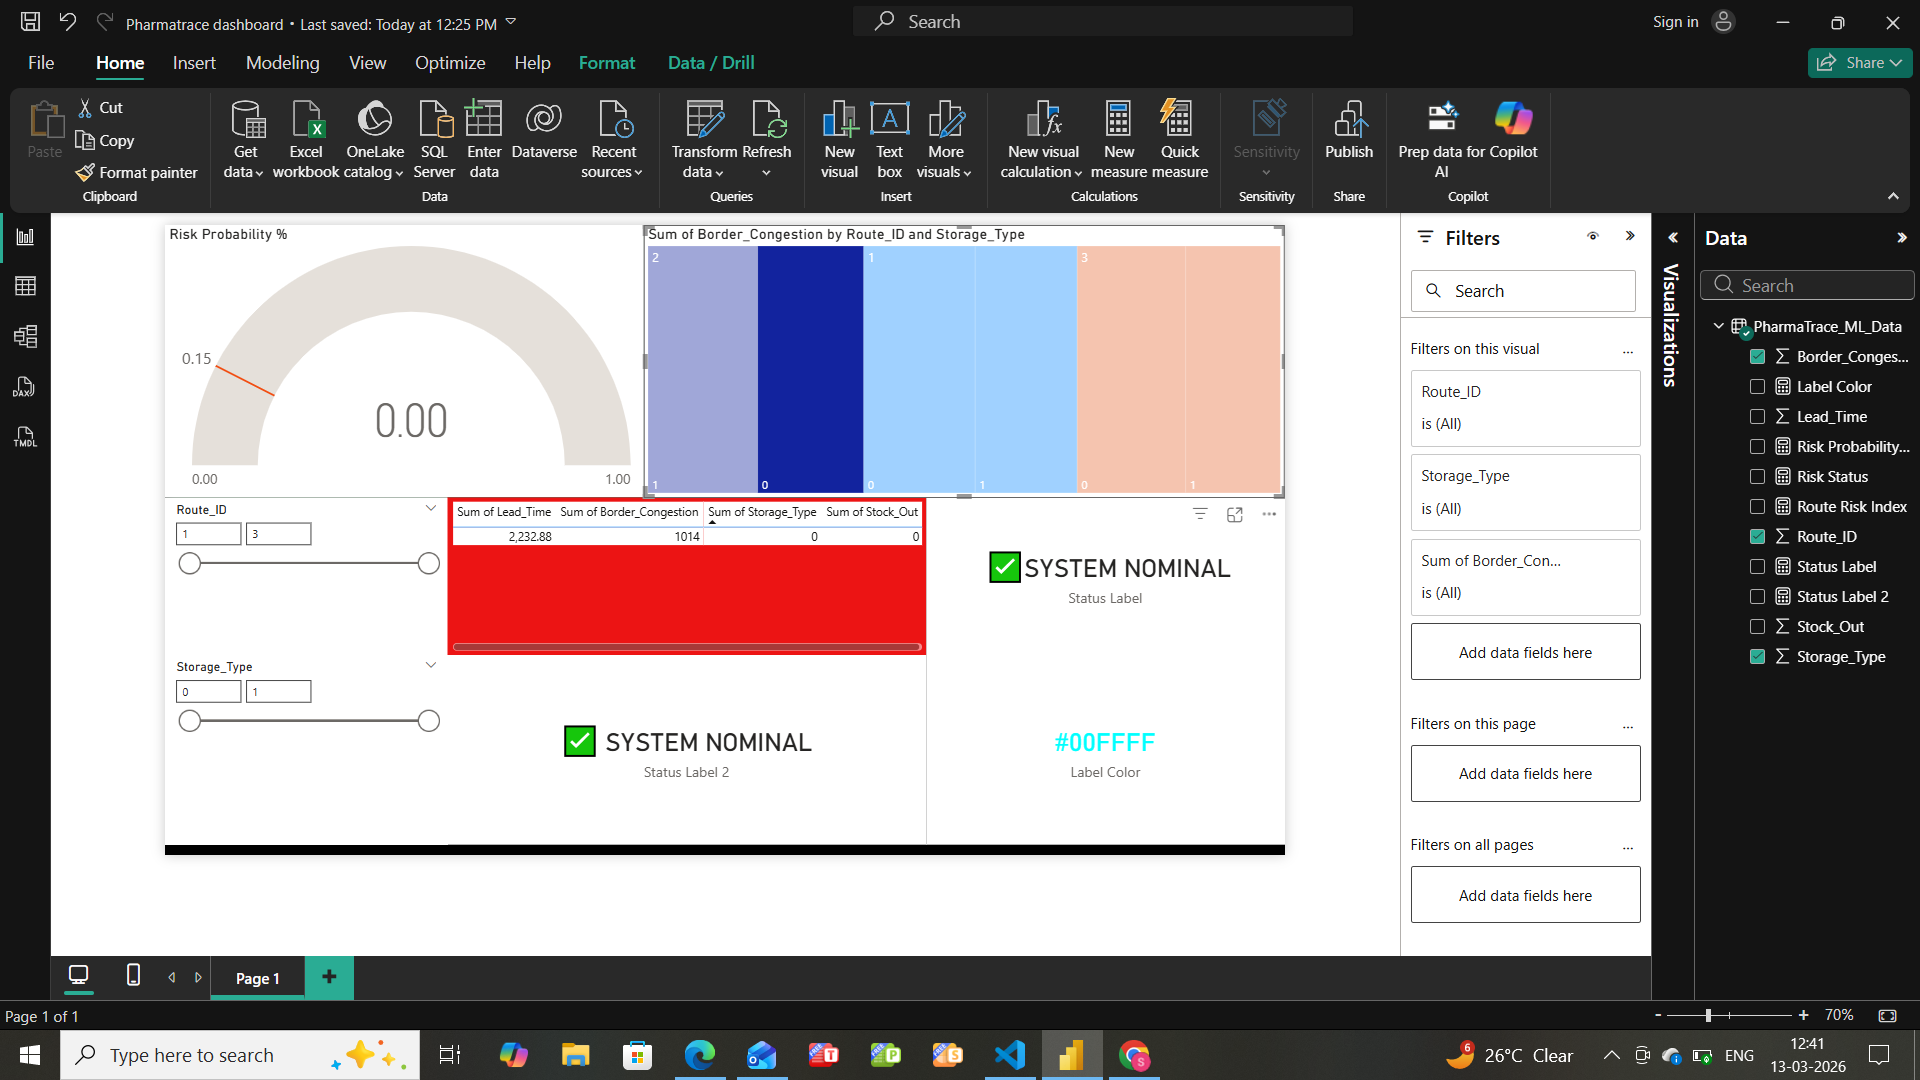

This screenshot's page, from the dashboard's own definition file:
{"tool":"powerbi","page":{"name":"Page 1","canvas":[1280,720],"ordinal":0},"visuals":[{"type":"gauge","fields":{"Y":["PharmaTrace_ML_Data.Risk Probability %"]},"box":[0,0,547.5,311.5],"z":0},{"type":"treemap","fields":{"Group":["PharmaTrace_ML_Data.Route_ID"],"Values":["Sum(PharmaTrace_ML_Data.Border_Congestion)"],"Details":["PharmaTrace_ML_Data.Storage_Type"]},"box":[547.1,0,732.9,311.4],"z":1000},{"type":"slicer","fields":{"Values":["PharmaTrace_ML_Data.Route_ID"]},"box":[0,311.4,322.9,180],"z":2000},{"type":"slicer","fields":{"Values":["PharmaTrace_ML_Data.Storage_Type"]},"box":[0,491.4,322.9,217.1],"z":3000},{"type":"tableEx","fields":{"Values":["Sum(PharmaTrace_ML_Data.Lead_Time)","Sum(PharmaTrace_ML_Data.Border_Congestion)","Sum(PharmaTrace_ML_Data.Storage_Type)","Sum(PharmaTrace_ML_Data.Stock_Out)"]},"box":[322.9,311.4,547.1,180],"z":4000},{"type":"card","fields":{"Values":["PharmaTrace_ML_Data.Status Label 2"]},"box":[322.9,491.4,547.1,217.1],"z":5000},{"type":"card","fields":{"Values":["PharmaTrace_ML_Data.Status Label"]},"box":[870,311,410,180],"z":5001},{"type":"card","fields":{"Values":["PharmaTrace_ML_Data.Label Color"]},"box":[870,491,410,217],"z":5002}]}

Visuals, with their boxes on the page's 1280x720 design canvas (x1, y1, x2, y2). These are canvas units, not pixel positions in the 1920x1080 screenshot, which may show the page scaled, cropped or inside an application window:
gauge - PharmaTrace_ML_Data.Risk Probability %: l=0, t=0, r=548, b=312
treemap - PharmaTrace_ML_Data.Route_ID x Sum(PharmaTrace_ML_Data.Border_Congestion): l=547, t=0, r=1280, b=311
slicer - PharmaTrace_ML_Data.Route_ID: l=0, t=311, r=323, b=491
slicer - PharmaTrace_ML_Data.Storage_Type: l=0, t=491, r=323, b=708
tableEx - Sum(PharmaTrace_ML_Data.Lead_Time) x Sum(PharmaTrace_ML_Data.Border_Congestion): l=323, t=311, r=870, b=491
card - PharmaTrace_ML_Data.Status Label 2: l=323, t=491, r=870, b=708
card - PharmaTrace_ML_Data.Status Label: l=870, t=311, r=1280, b=491
card - PharmaTrace_ML_Data.Label Color: l=870, t=491, r=1280, b=708
